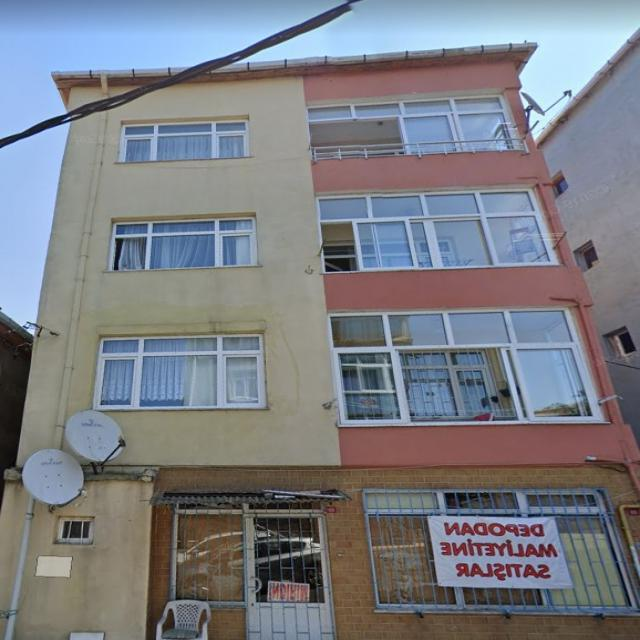Building: (0, 44, 640, 640)
